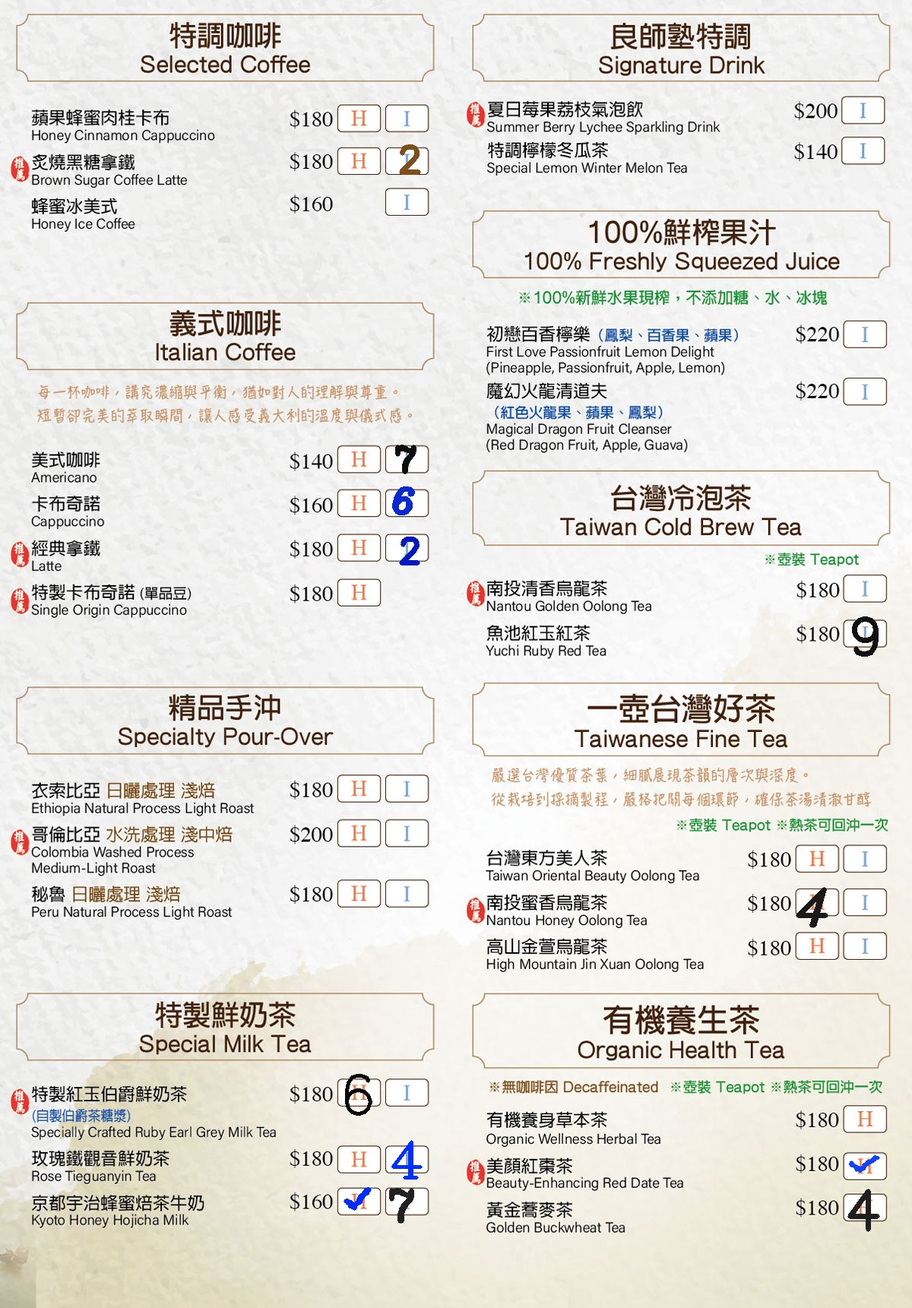marked_number_2: (389, 149, 428, 173), (388, 535, 426, 559)
marked_number_4: (845, 1194, 884, 1218), (799, 892, 838, 915), (388, 1148, 426, 1171)
marked_number_6: (342, 1080, 381, 1104), (388, 491, 426, 515)
marked_number_7: (388, 446, 426, 470), (387, 1189, 426, 1212)
marked_number_9: (845, 622, 884, 646)
marked_tick: (846, 1153, 885, 1177), (340, 1189, 379, 1212)
